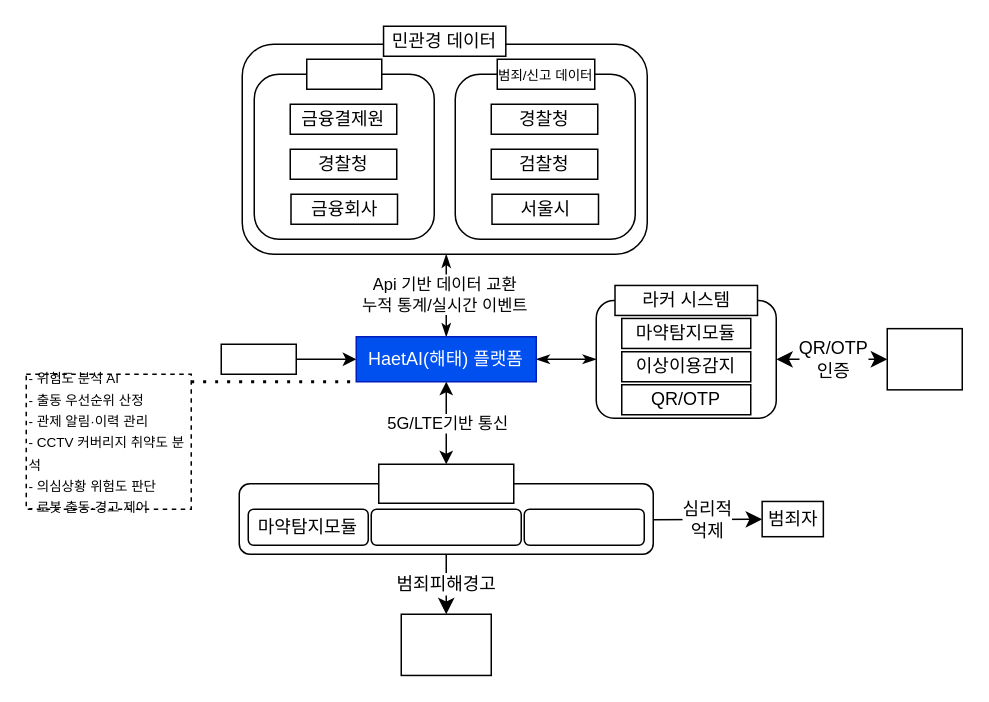
The diagram is 989 pixels wide and 702 high, and some of its shapes have lost their labels. The centre of each missing label's shape, as x and y in pixels:
ASAP: (x=343, y=73)
CCTV: (x=258, y=358)
광학센서(카메라): (x=445, y=526)
사용자: (x=924, y=358)
시민: (x=445, y=644)
음성긴급호출: (x=583, y=526)
해치(로봇): (x=445, y=483)
